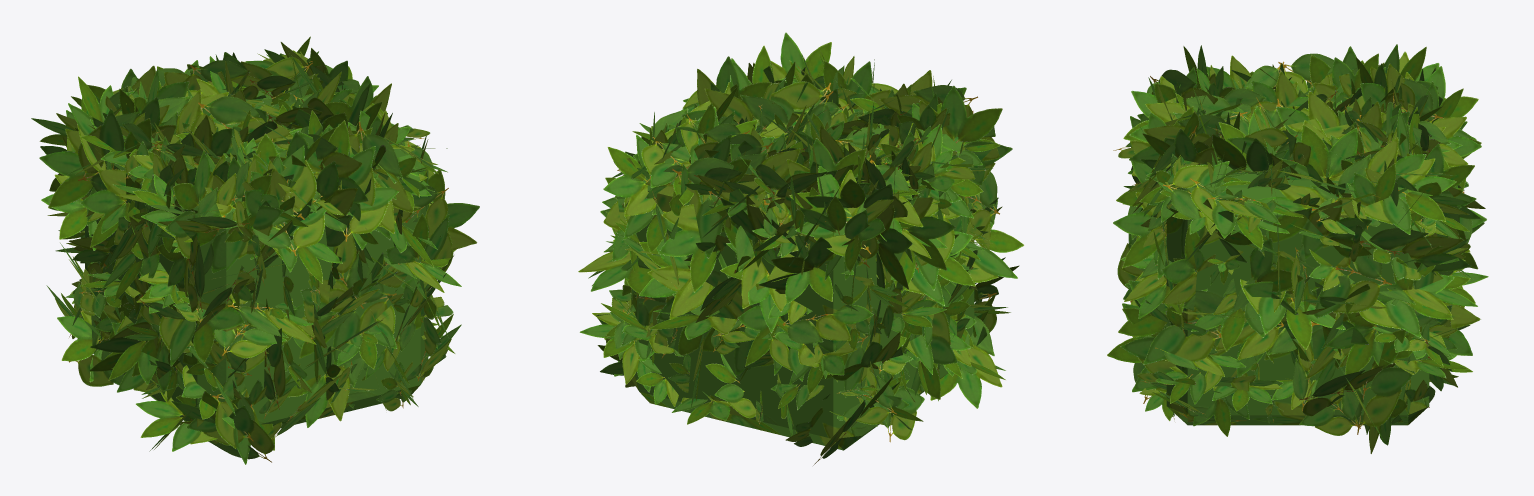
Rendered from bush.fbx.
3 views of the same model, side by side, from view 1: azimuth 30°, elevation 25°; view 2: azimuth 150°, elevation 25°; view 3: azimuth 270°, elevation 25° (orthographic).
Visible parts, largest first — view 1: Cube.002, bush_leaf.387, bush_leaf.305, bush_leaf.006, bush_leaf.410, bush_leaf.388, bush_leaf.405, bush_leaf.240, bush_leaf.274, bush_leaf.189, bush_leaf.478, bush_leaf.479 (+72 smaller); view 2: Cube.002, bush_leaf.405, bush_leaf.425, bush_leaf.360, bush_leaf.312, bush_leaf.348, bush_leaf.431, bush_leaf.161, bush_leaf.381, bush_leaf.426, bush_leaf.387, bush_leaf.305 (+70 smaller); view 3: Cube.002, bush_leaf.471, bush_leaf.464, bush_leaf.100, bush_leaf.442, bush_leaf.069, bush_leaf.177, bush_leaf.126, bush_leaf.120, bush_leaf.454, bush_leaf.075, bush_leaf.459 (+81 smaller).
Part boxes in pixels (bbox=[...]): Cube.002: bbox=[85, 90, 428, 443]; bush_leaf.387: bbox=[159, 289, 250, 366]; bush_leaf.305: bbox=[39, 128, 98, 225]; bush_leaf.006: bbox=[377, 213, 453, 292]; bush_leaf.410: bbox=[78, 108, 151, 191]; bush_leaf.388: bbox=[171, 391, 274, 462]; bush_leaf.405: bbox=[165, 150, 223, 258]; bush_leaf.240: bbox=[190, 96, 291, 143]; bush_leaf.274: bbox=[135, 391, 217, 451]; bush_leaf.189: bbox=[244, 133, 316, 225]; bush_leaf.478: bbox=[291, 154, 357, 246]; bush_leaf.479: bbox=[348, 122, 413, 239]; Cube.002: bbox=[631, 114, 974, 450]; bush_leaf.405: bbox=[919, 85, 1012, 186]; bush_leaf.425: bbox=[672, 157, 768, 258]; bush_leaf.360: bbox=[658, 204, 730, 292]; bush_leaf.312: bbox=[930, 316, 1002, 408]; bush_leaf.348: bbox=[777, 278, 873, 343]; bush_leaf.431: bbox=[603, 134, 663, 216]; bush_leaf.161: bbox=[681, 88, 788, 129]; bush_leaf.381: bbox=[795, 196, 878, 267]; bush_leaf.426: bbox=[789, 165, 871, 256]; bush_leaf.387: bbox=[960, 221, 1024, 282]; bush_leaf.305: bbox=[875, 207, 912, 289]; Cube.002: bbox=[1166, 110, 1429, 425]; bush_leaf.471: bbox=[1118, 280, 1221, 364]; bush_leaf.464: bbox=[1363, 158, 1456, 234]; bush_leaf.100: bbox=[1353, 329, 1415, 434]; bush_leaf.442: bbox=[1354, 228, 1471, 275]; bush_leaf.069: bbox=[1311, 240, 1391, 318]; bush_leaf.177: bbox=[1278, 124, 1370, 180]; bush_leaf.126: bbox=[1240, 279, 1345, 349]; bush_leaf.120: bbox=[1359, 274, 1454, 337]; bush_leaf.454: bbox=[1163, 161, 1250, 229]; bush_leaf.075: bbox=[1161, 224, 1199, 310]; bush_leaf.459: bbox=[1190, 178, 1289, 249].
Bounding box in the file's own units: 322 × 307 × 336.
